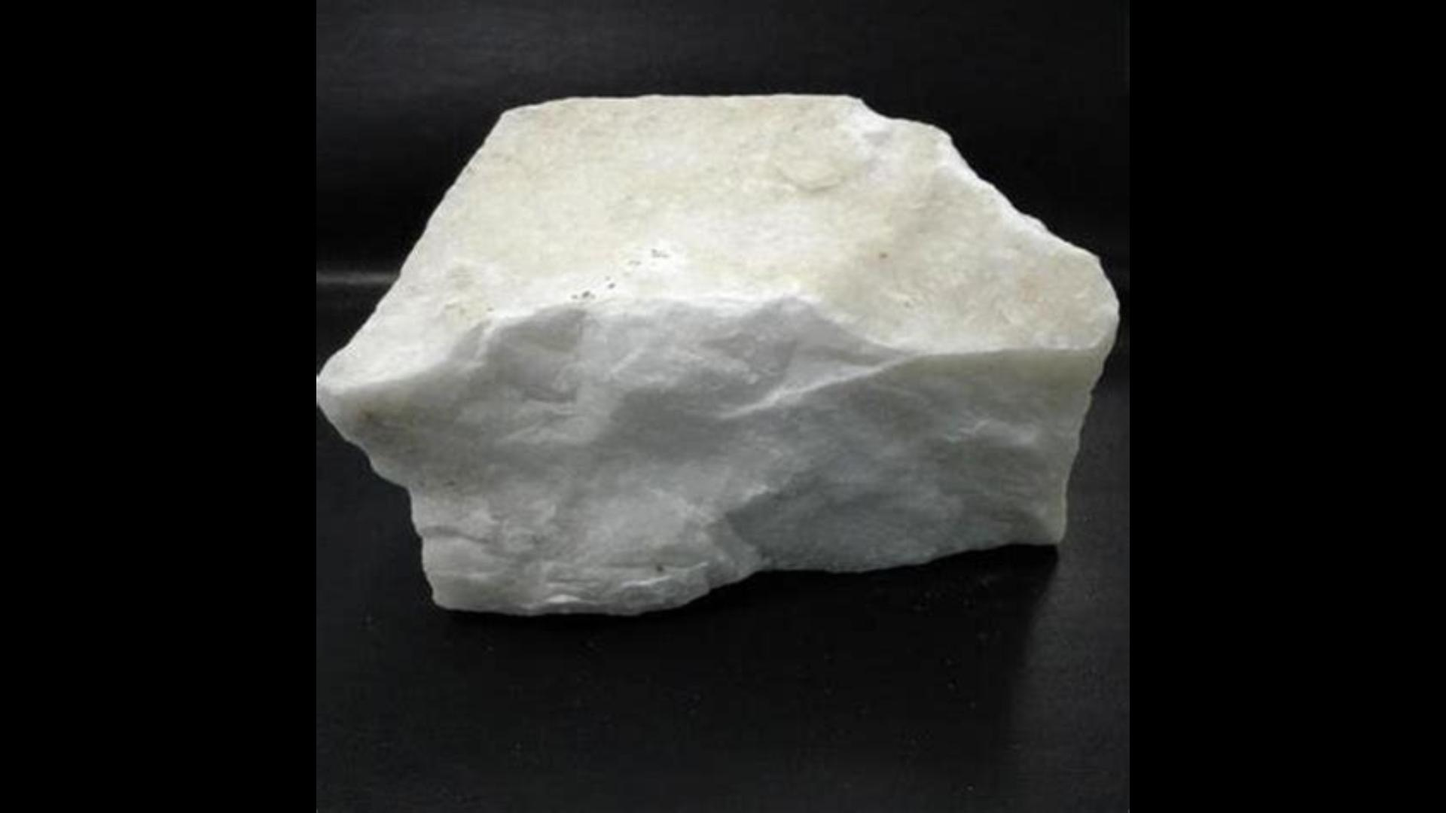rock: (316, 96, 1116, 612)
